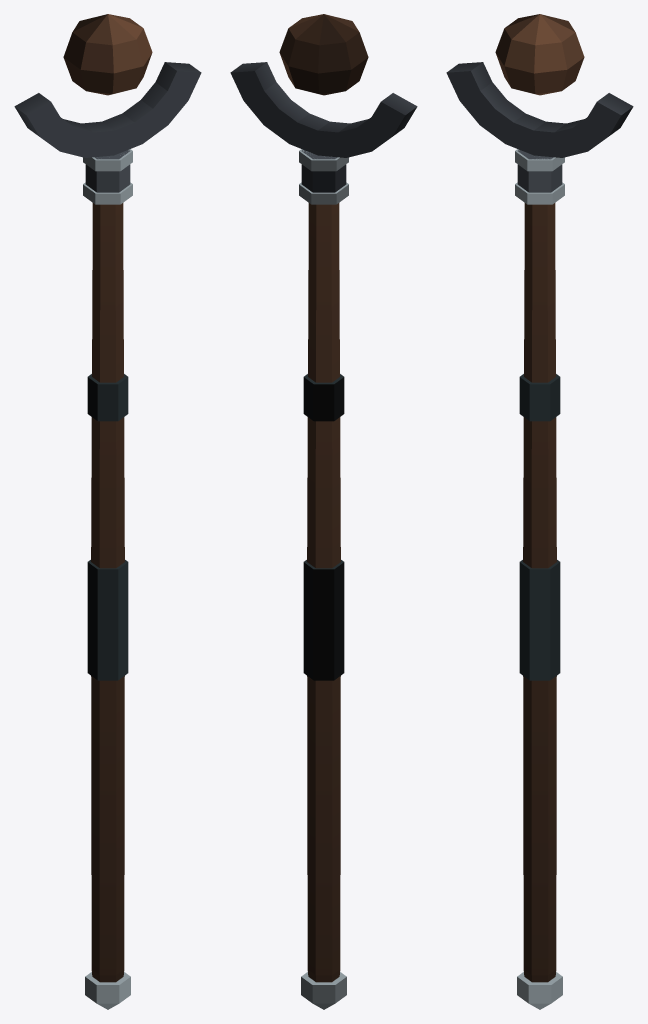
The model's file is mage_soulstaff_1.gltf.
3 views of the same model, side by side, from view 1: azimuth 30°, elevation 25°; view 2: azimuth 150°, elevation 25°; view 3: azimuth 330°, elevation 25° (orthographic).
Visible parts, largest first — view 1: mage_soulstaff_1; view 2: mage_soulstaff_1; view 3: mage_soulstaff_1.
Boxes of the visible parts, bbox=[...] form: mage_soulstaff_1: bbox=[14, 14, 201, 1009]; mage_soulstaff_1: bbox=[230, 14, 417, 1009]; mage_soulstaff_1: bbox=[446, 14, 633, 1009].
Size of the model in its own units: 0.4945 by 2.69 by 0.2033.
1 material, 1 textured.
